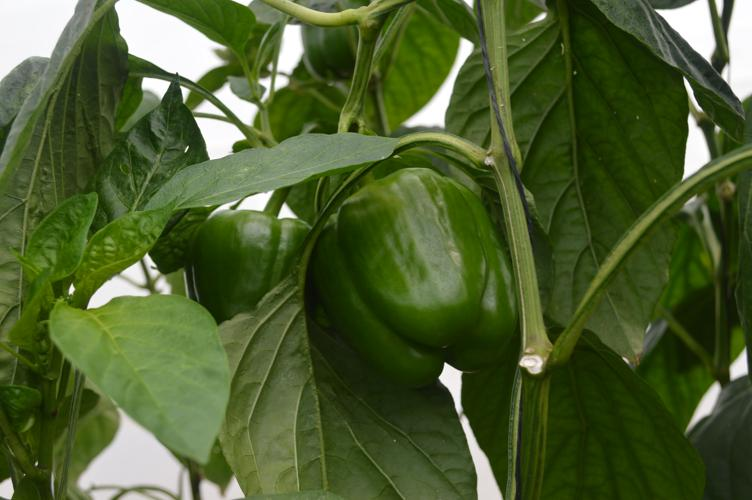BellPepper: (310, 166, 518, 385), (197, 211, 305, 313), (299, 6, 361, 82)
